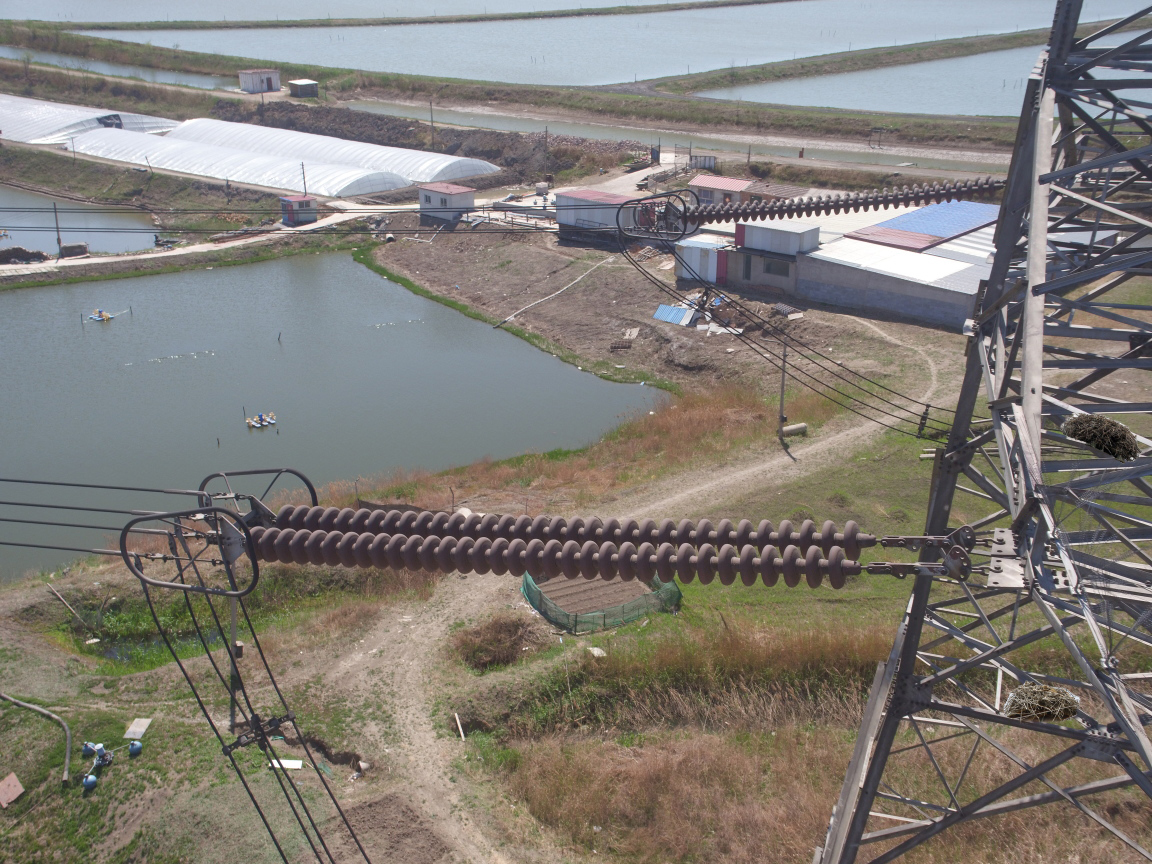nest: (1063, 410, 1141, 465), (998, 681, 1090, 723)
